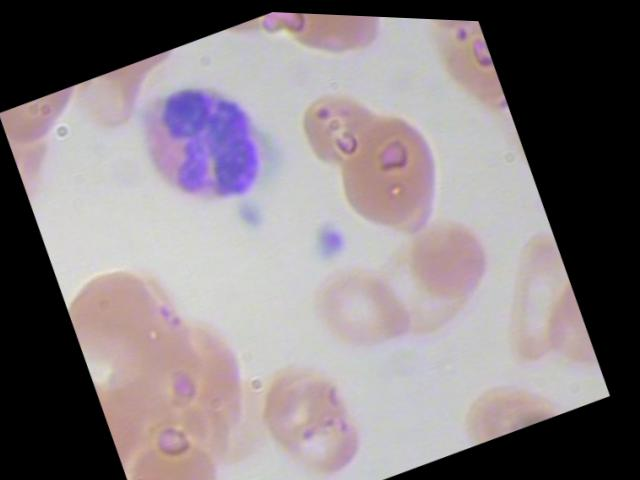Platelets: (302, 209, 359, 267), (223, 183, 280, 241)
Red Blood Cells: (319, 92, 467, 246), (470, 215, 603, 372), (55, 243, 192, 389), (245, 337, 375, 463), (391, 193, 520, 318), (301, 243, 430, 368), (71, 36, 212, 142), (449, 342, 571, 446), (290, 70, 401, 179), (252, 9, 400, 89), (282, 397, 392, 479), (0, 77, 103, 156), (124, 422, 249, 479)
White Blood Cells: (112, 51, 294, 227)
